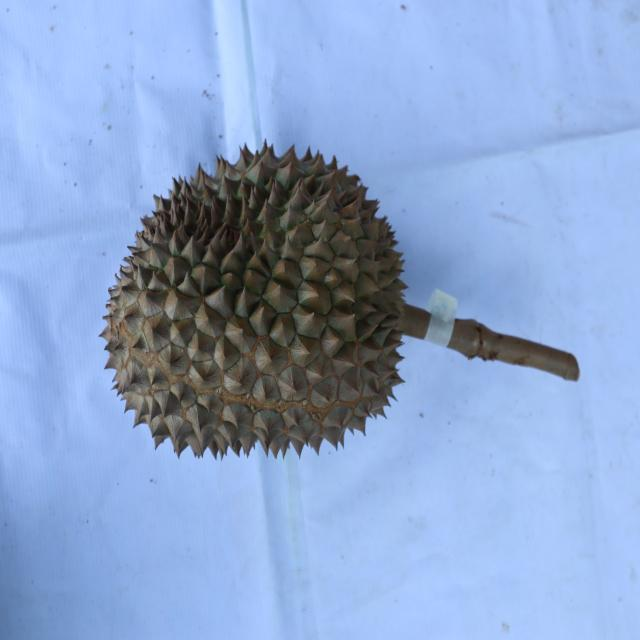mature: (101, 140, 409, 462)
